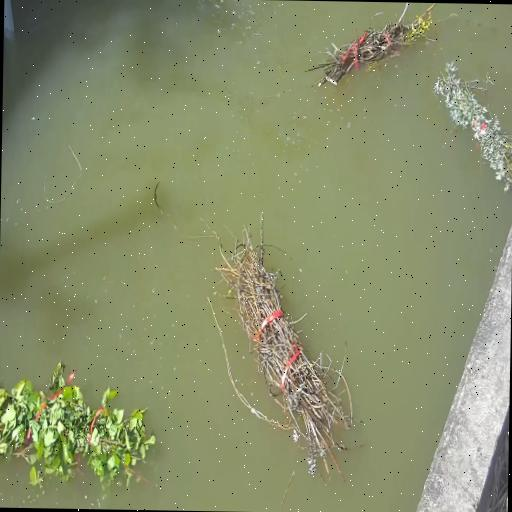twig: (216, 228, 351, 473), (0, 363, 155, 484), (307, 3, 436, 87), (433, 62, 512, 191)
